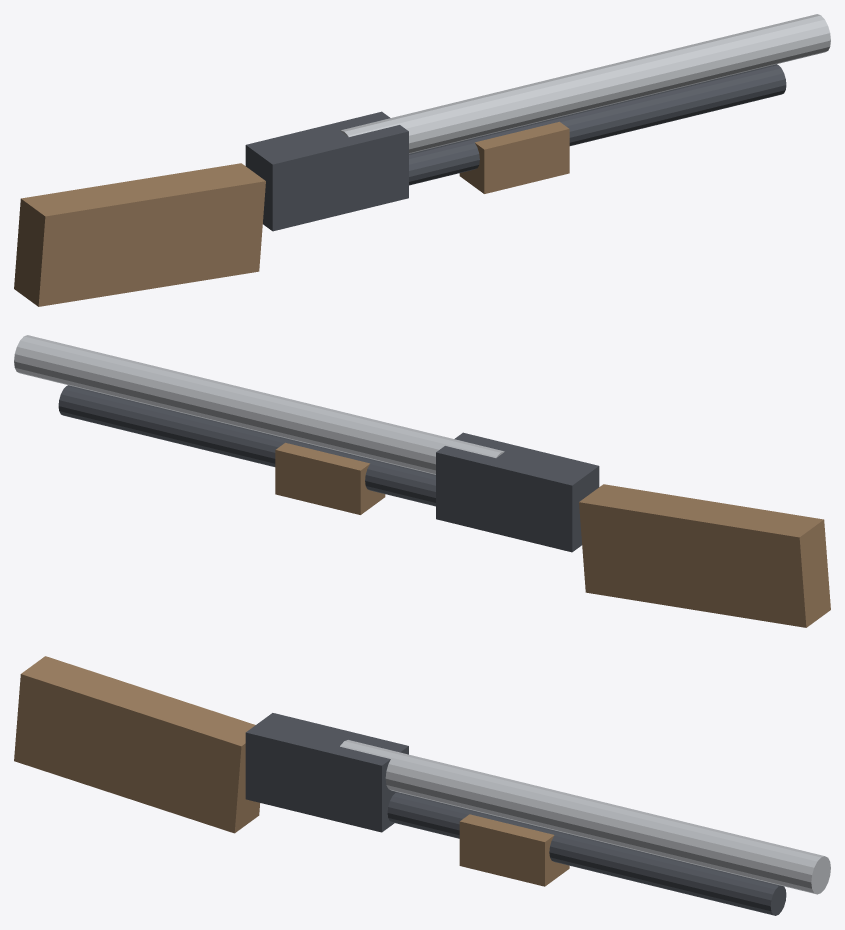
File: weapon_shotgun_found.glb
3 renders of one model, top to bottom at view 1: azimuth 30°, elevation 25°; view 2: azimuth 150°, elevation 25°; view 3: azimuth 330°, elevation 25°, orthographic.
Parts seen in each view (by area): view 1: stock, barrel, receiver, tube, pump; view 2: stock, barrel, receiver, tube, pump; view 3: stock, barrel, receiver, tube, pump.
Part boxes in pixels (x1,y1,x2,y2): stock: (14,163,265,306); barrel: (340,14,830,153); receiver: (245,111,408,231); tube: (409,64,786,185); pump: (459,121,569,193); stock: (579,484,830,627); barrel: (14,335,504,474); receiver: (436,432,599,552); tube: (58,385,435,506); pump: (275,442,385,514); stock: (14,656,260,833); barrel: (340,740,830,894); receiver: (245,713,408,832); tube: (387,792,786,915); pump: (459,814,569,886).
Bounding box in the file's own units: 0.9336 × 0.1205 × 0.055.
